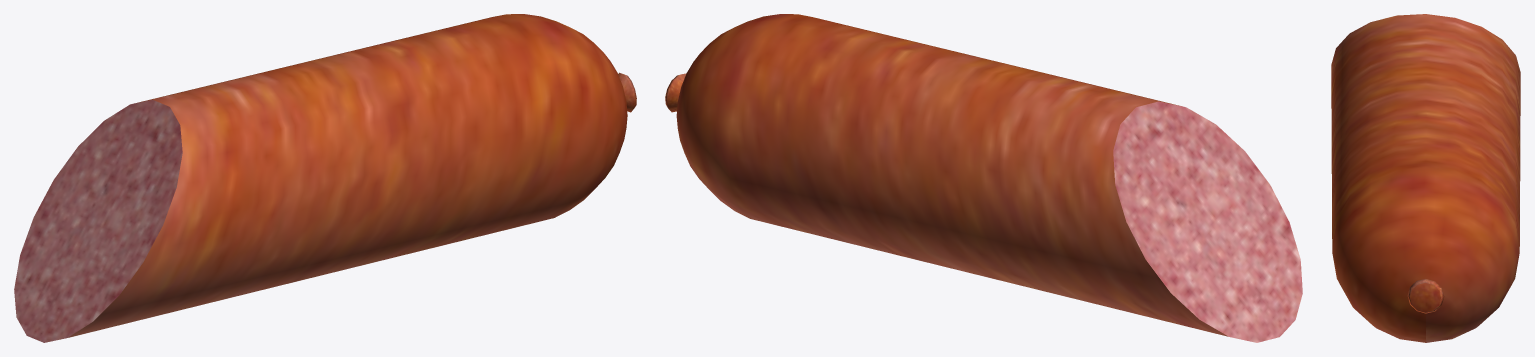
The model's file is Sausage.fbx.
3 views of the same model, side by side, from view 1: azimuth 30°, elevation 25°; view 2: azimuth 150°, elevation 25°; view 3: azimuth 270°, elevation 25° (orthographic). The views are drawn at different scales.
Parts seen in each view (by area): view 1: Sausage; view 2: Sausage; view 3: Sausage.
Boxes of the visible parts, x1=… form: Sausage: x1=14, y1=14, x2=636, y2=342; Sausage: x1=665, y1=14, x2=1302, y2=342; Sausage: x1=1331, y1=14, x2=1520, y2=342.
Bounding box in the file's own units: 40.34 × 12.37 × 12.37.
